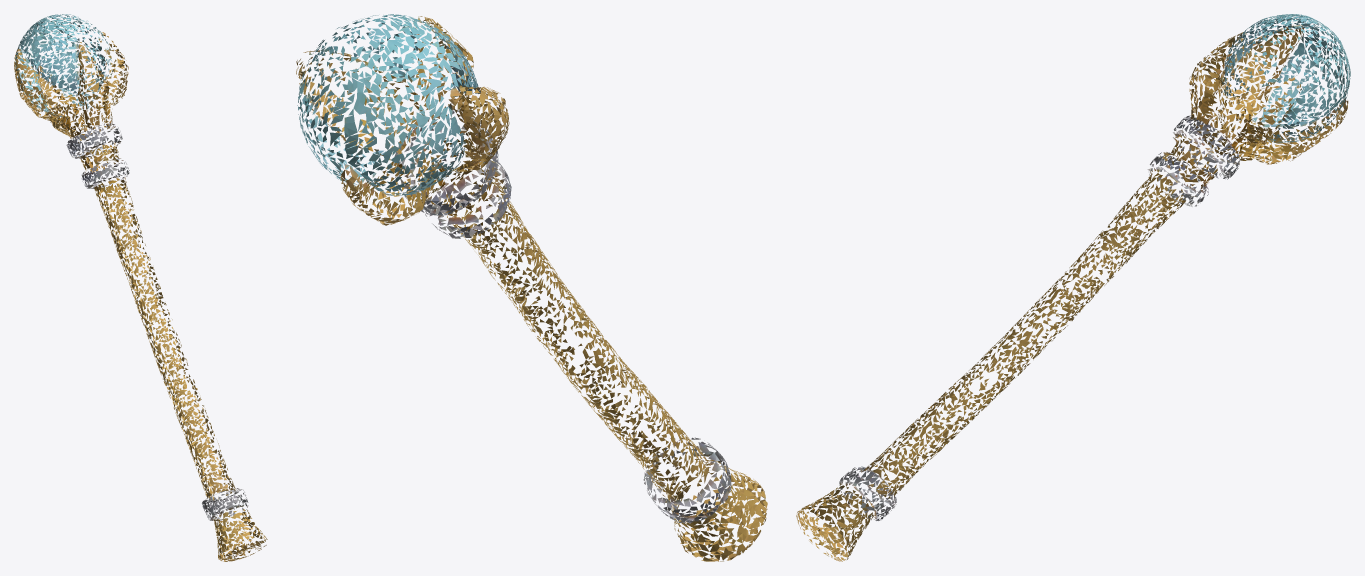
The model's file is w_staff.glb.
The picture shows the model from 3 angles, left to right: view 1: azimuth 30°, elevation 25°; view 2: azimuth 150°, elevation 25°; view 3: azimuth 270°, elevation 25°; orthographic projection. The views are drawn at different scales.
Parts seen in each view (by area): view 1: shape_clean_textured; view 2: shape_clean_textured; view 3: shape_clean_textured.
Boxes of the visible parts, <box> form: shape_clean_textured: <box>14,14,267,561</box>; shape_clean_textured: <box>296,14,767,561</box>; shape_clean_textured: <box>796,14,1350,561</box>.
Bounding box in the file's own units: 0.5287 × 2 × 1.87.
Materials: 1 (1 with a texture image).
